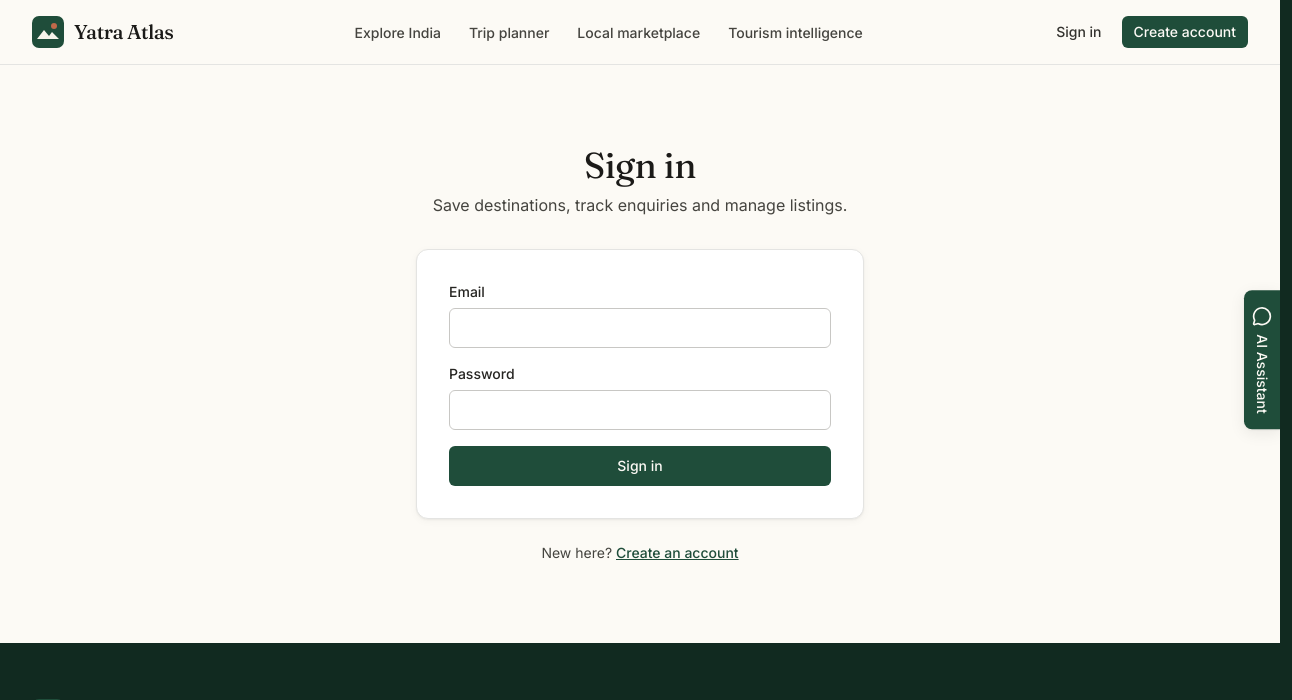
Login › validates fields before calling the API
What coordinates should you click on to do the following:
click the button "Sign in"
I would click on:
 (640, 466)
Its box is [449, 446, 831, 486].
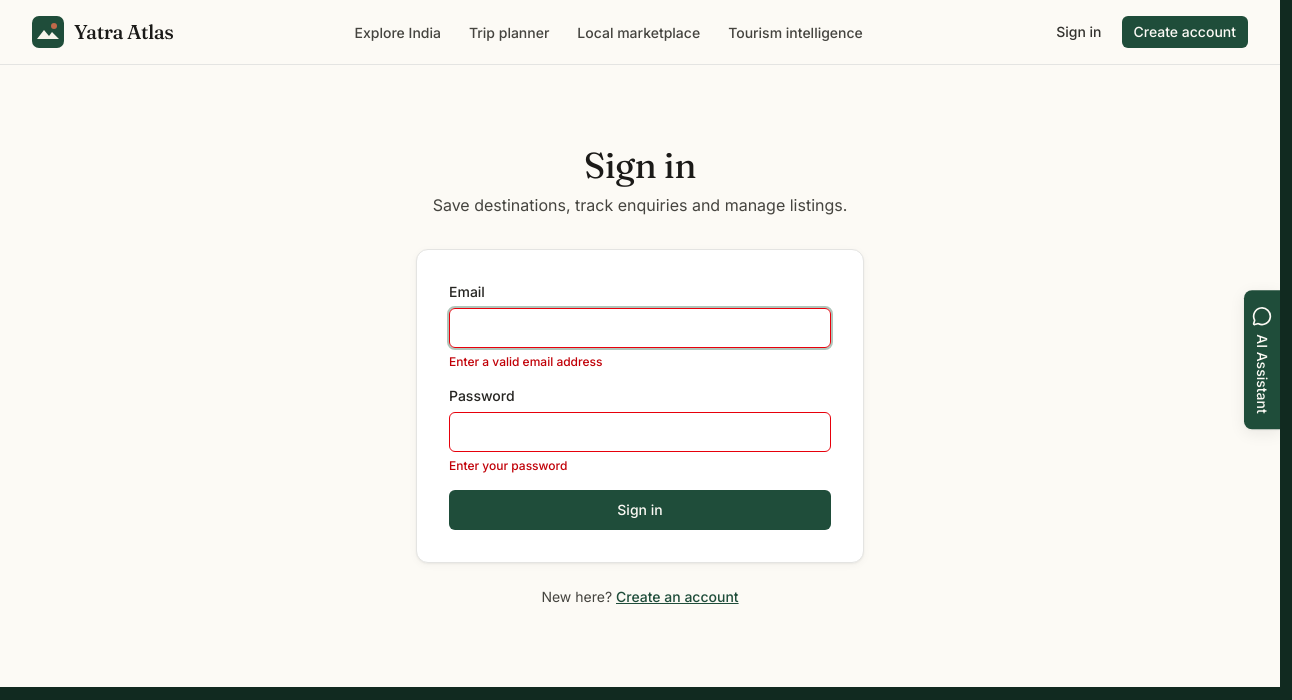
Expected: the text "Enter a valid email address" is shown, [449, 354, 602, 369]
